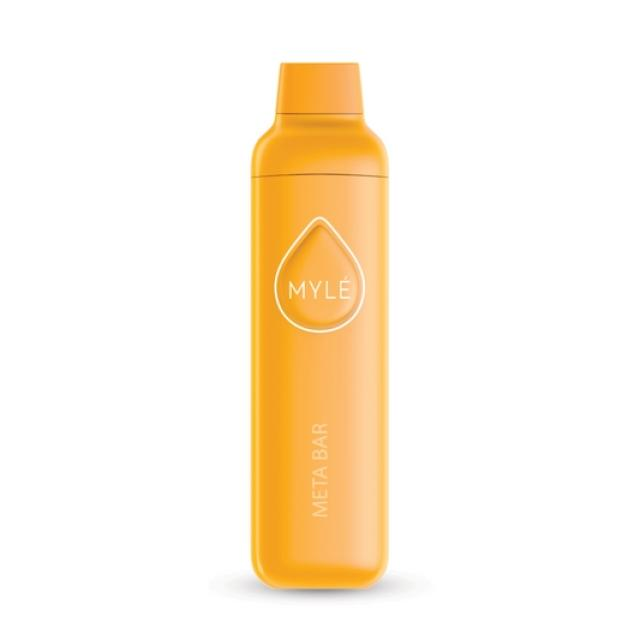Vapes: (249, 61, 390, 590)
